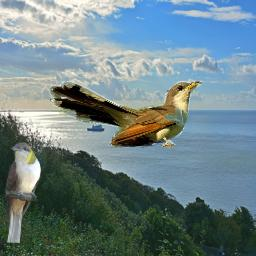Cuckoo: (50, 81, 202, 148), (4, 142, 41, 243)
